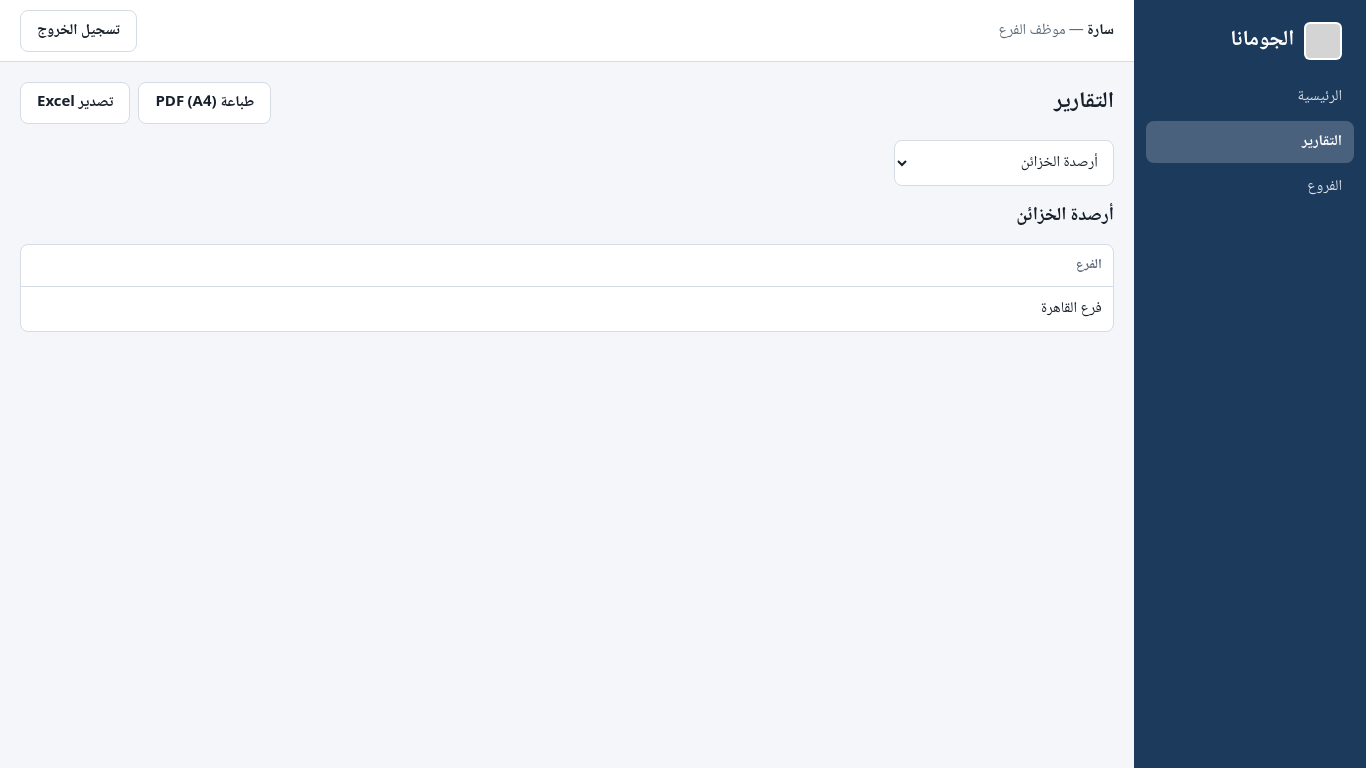
Scenario: reports page › opens on the first report and switches to another one
expect the heading "أرصدة الخزائن" is shown: met, box [1016,200,1114,232]
expect the text "فرع القاهرة" is shown: met, box [21,287,1113,331]
Select "المديونيات" in the dropdown named "التقرير" at (1004, 163), box [894,140,1114,186]
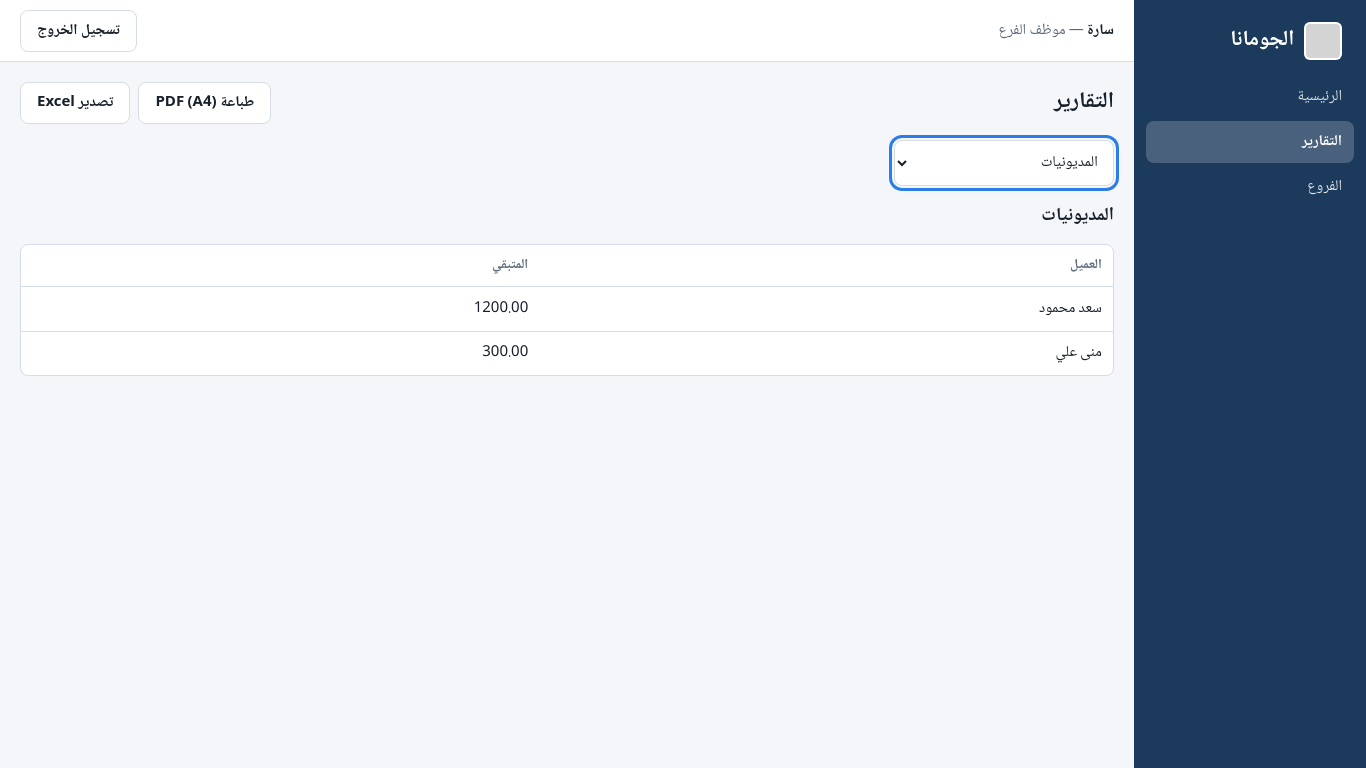
expect the heading "المديونيات" is shown: met, box [1041,200,1114,232]
expect the text "سعد محمود" is shown: met, box [539,287,1113,331]
expect the text "1200.00" is shown: met, box [21,287,539,331]
